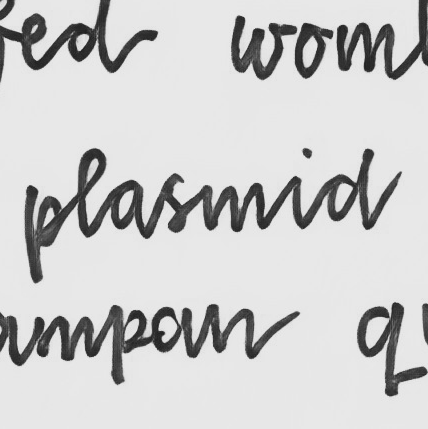a: (107, 175, 147, 233)
d: (324, 147, 377, 224)
i: (284, 146, 316, 230)
l: (73, 145, 106, 239)
m: (199, 179, 268, 234)
p: (20, 182, 68, 286)
s: (156, 170, 190, 235)
